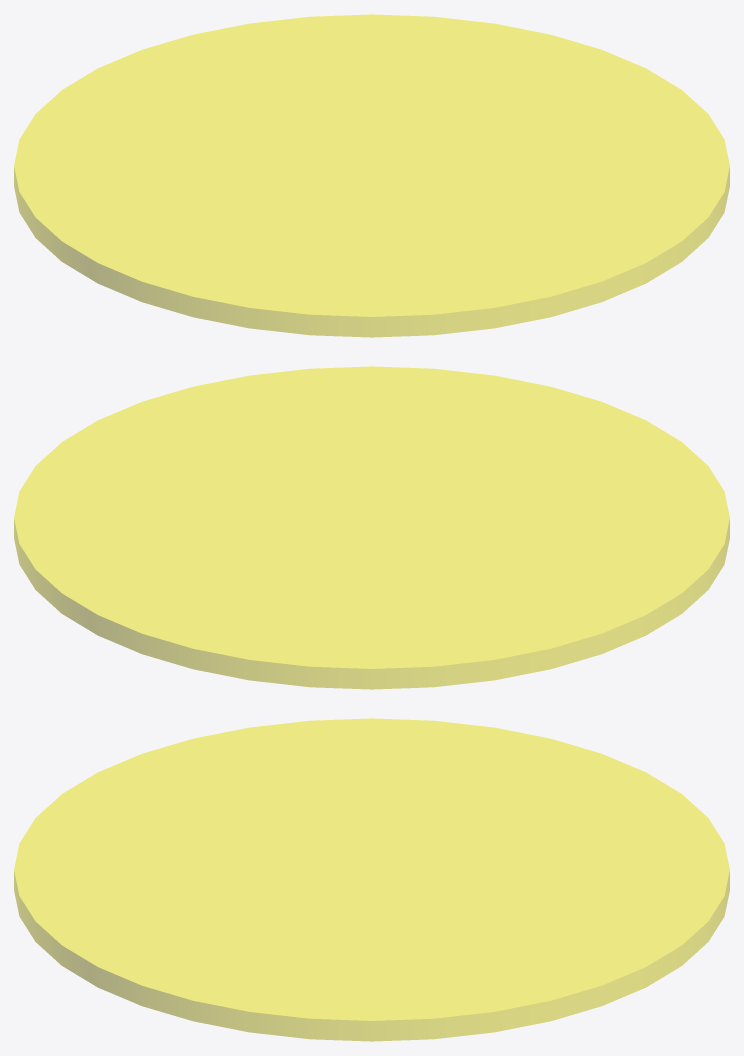
Rendered from broken_film.glb.
3 renders of one model, top to bottom at view 1: azimuth 30°, elevation 25°; view 2: azimuth 150°, elevation 25°; view 3: azimuth 270°, elevation 25°, orthographic.
Parts seen in each view (by area): view 1: broken_film; view 2: broken_film; view 3: broken_film.
Boxes of the visible parts, x1,y1,x2,y2 form: broken_film: (14,14,729,337); broken_film: (14,366,729,689); broken_film: (14,718,729,1041).
Size of the model in its own units: 0.0506 by 0.0016 by 0.0506.
